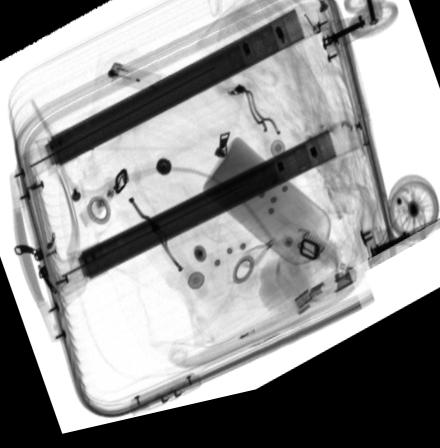Lighter: (106, 67, 159, 101)
